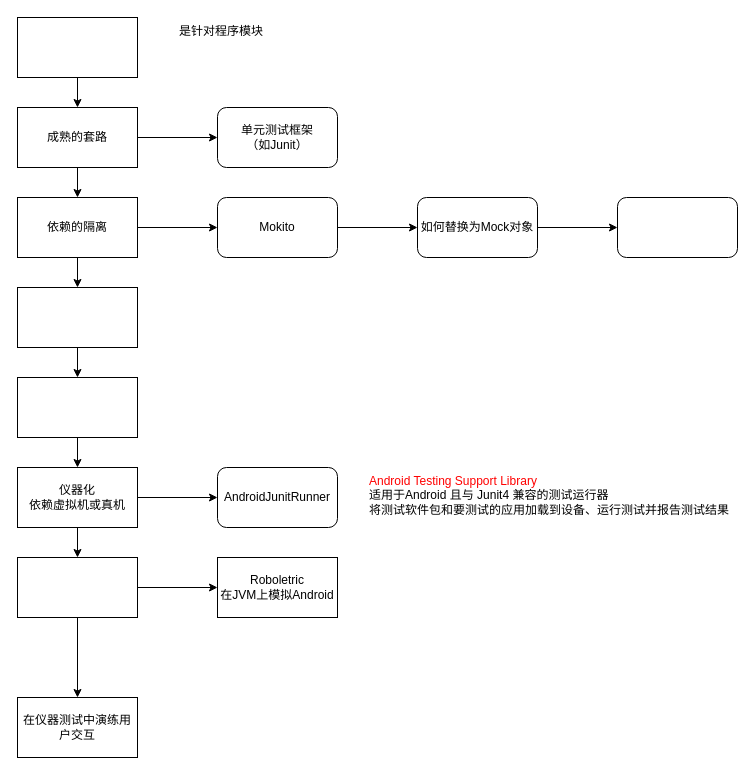
Image size: 755x775. Some labels were removed from this diagram. Here are the shapes that lost their labels. From the top down, the box of each, then its label:
(16, 16, 138, 78): 单元测试的定义
(616, 196, 738, 258): 依赖注入: Roboguice、Dragger、Dragger2
(16, 286, 138, 348): 通过Mock隔离对Android的依赖
(16, 376, 138, 438): Mock Android具体能力的成本过高
(16, 556, 138, 618): 依赖Android运行时效率低
